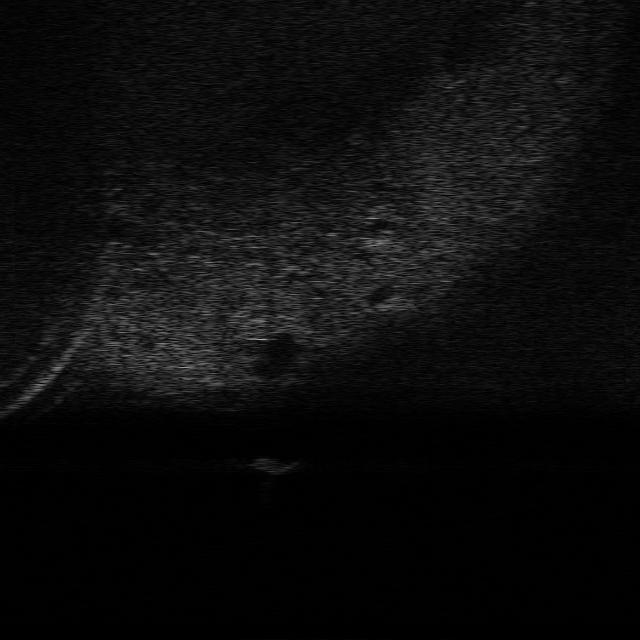cube: (248, 453, 298, 478)
